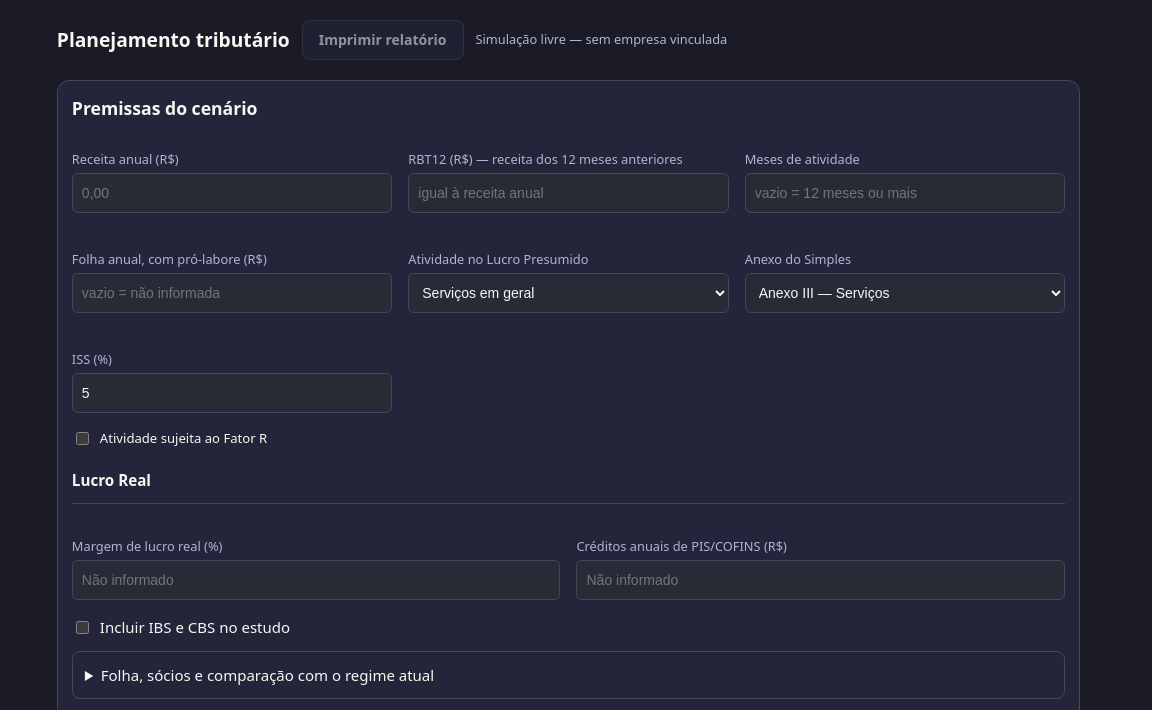
it: percentual inválido continua exibindo erro
Click the checkbox labelled "Incluir IBS e CBS no estudo" at (82, 627), box [76,621,89,634]
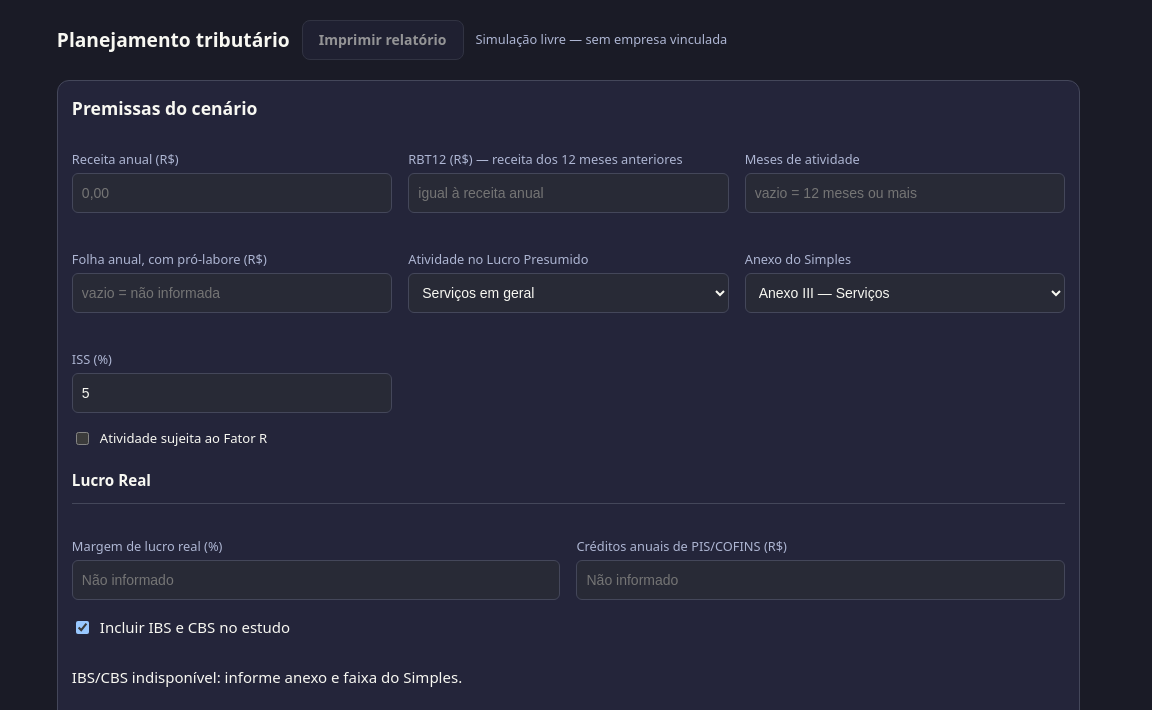
Type "10000000" into the field labelled "Receita anual (R$)" at (232, 193), box [72,173,392,213]
(page scrolled)
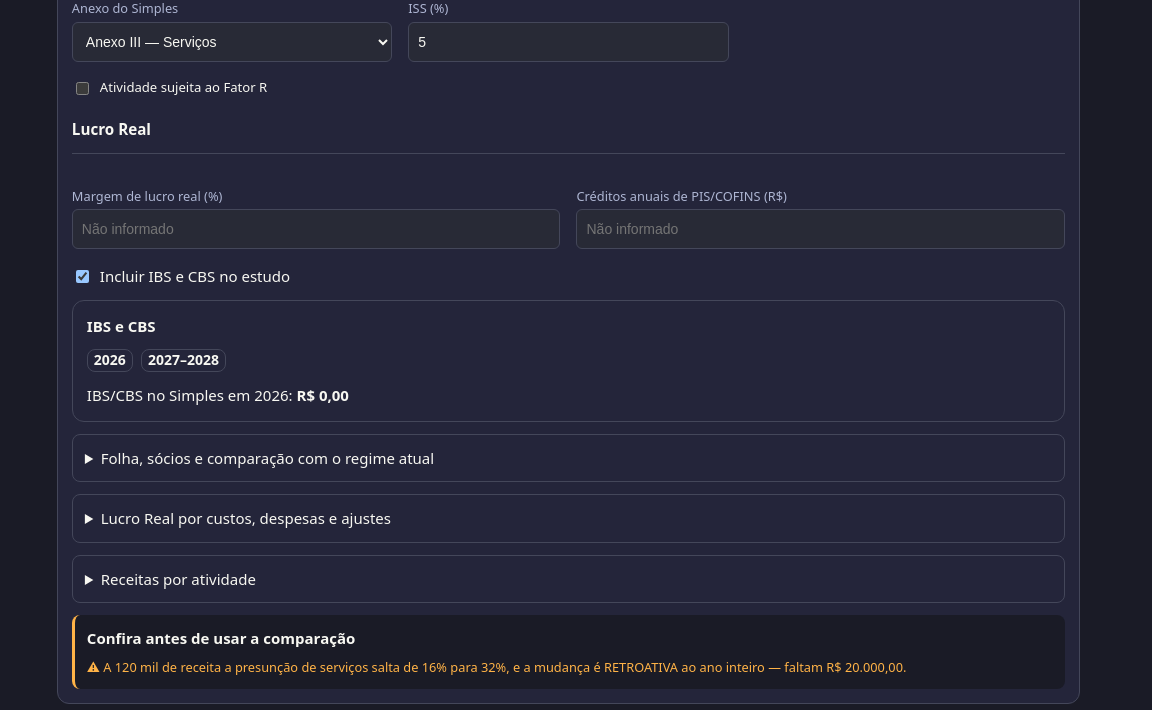
Click the button "2027–2028" at (183, 361), box [141,350,226,372]
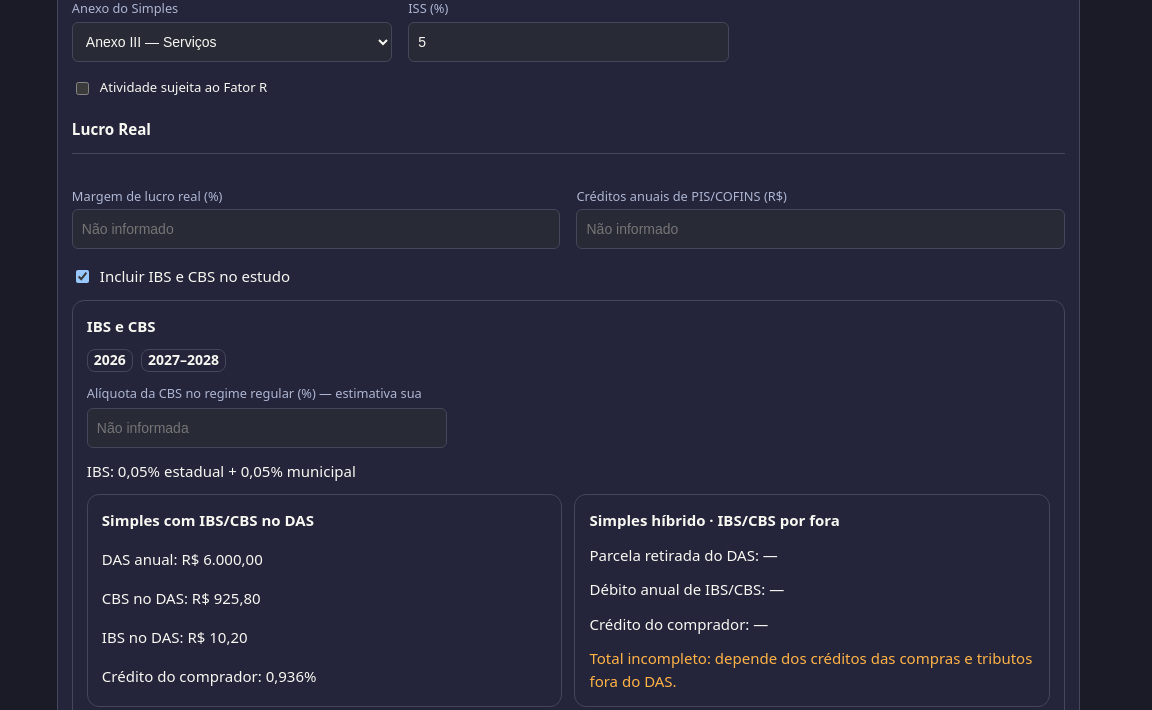
Type "101" into the field labelled "Alíquota da CBS no regime regular (%) — estimativa sua" at (267, 428), box [87,408,447,448]
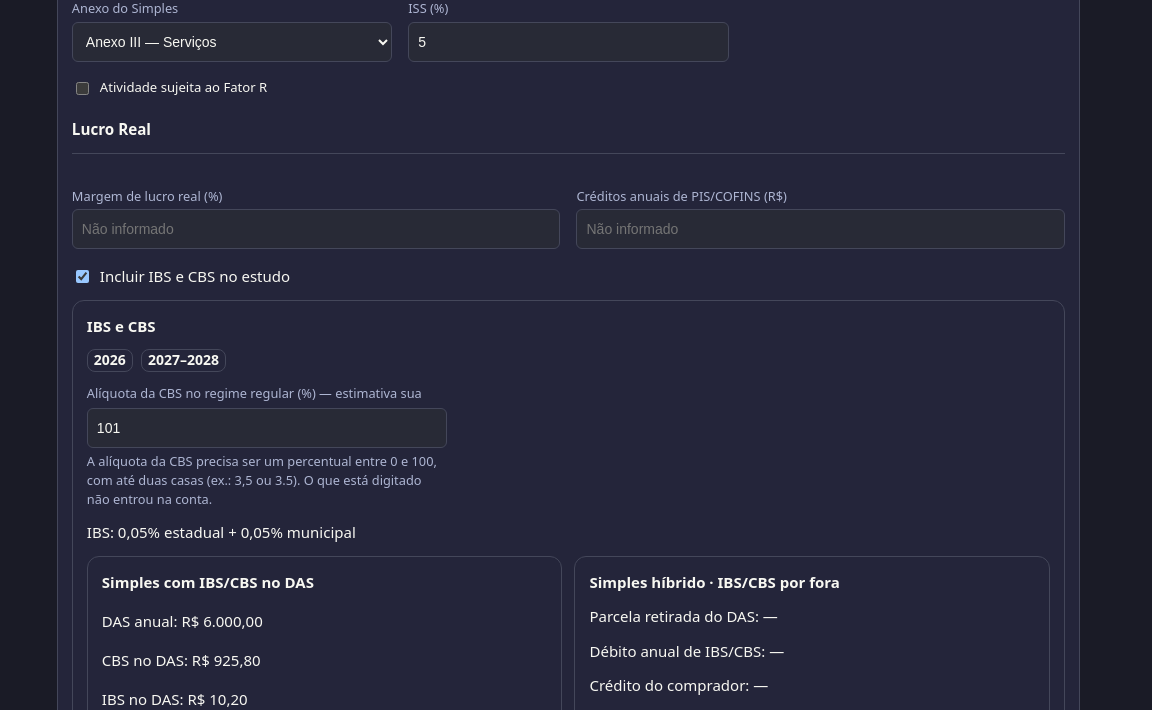
Check: the message is shown, box [87,452,447,509]
